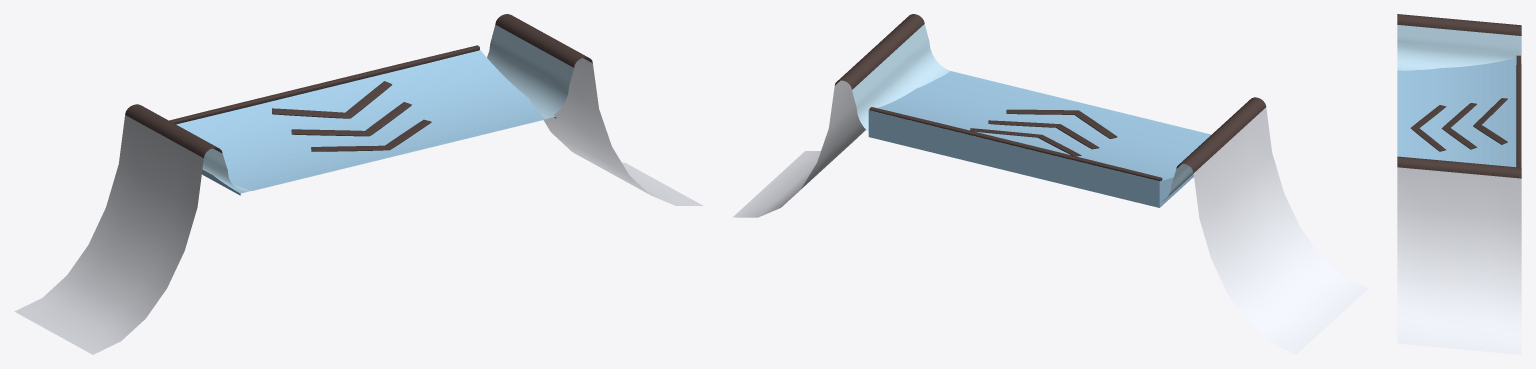
Rendered from BobsledKicker.obj.
3 renders of one model, left to right at view 1: azimuth 30°, elevation 25°; view 2: azimuth 150°, elevation 25°; view 3: azimuth 270°, elevation 25°, orthographic. The views are drawn at different scales.
Parts seen in each view (by area): view 1: Snow, Kicker, Trim, Ice; view 2: Snow, Kicker, Trim, Ice; view 3: Snow, Kicker, Trim, Ice.
Part boxes in pixels (bbox=[...]): Snow: bbox=[14, 58, 703, 354]; Kicker: bbox=[176, 50, 556, 195]; Trim: bbox=[125, 14, 592, 157]; Ice: bbox=[202, 25, 573, 191]; Snow: bbox=[733, 80, 1368, 354]; Kicker: bbox=[868, 71, 1211, 207]; Trim: bbox=[835, 14, 1266, 181]; Ice: bbox=[852, 24, 1193, 202]; Snow: bbox=[1397, 167, 1521, 354]; Kicker: bbox=[1397, 57, 1521, 167]; Trim: bbox=[1397, 14, 1521, 178]; Ice: bbox=[1397, 25, 1521, 70].
Size of the model in its own units: 71.6 by 21.5 by 16.
